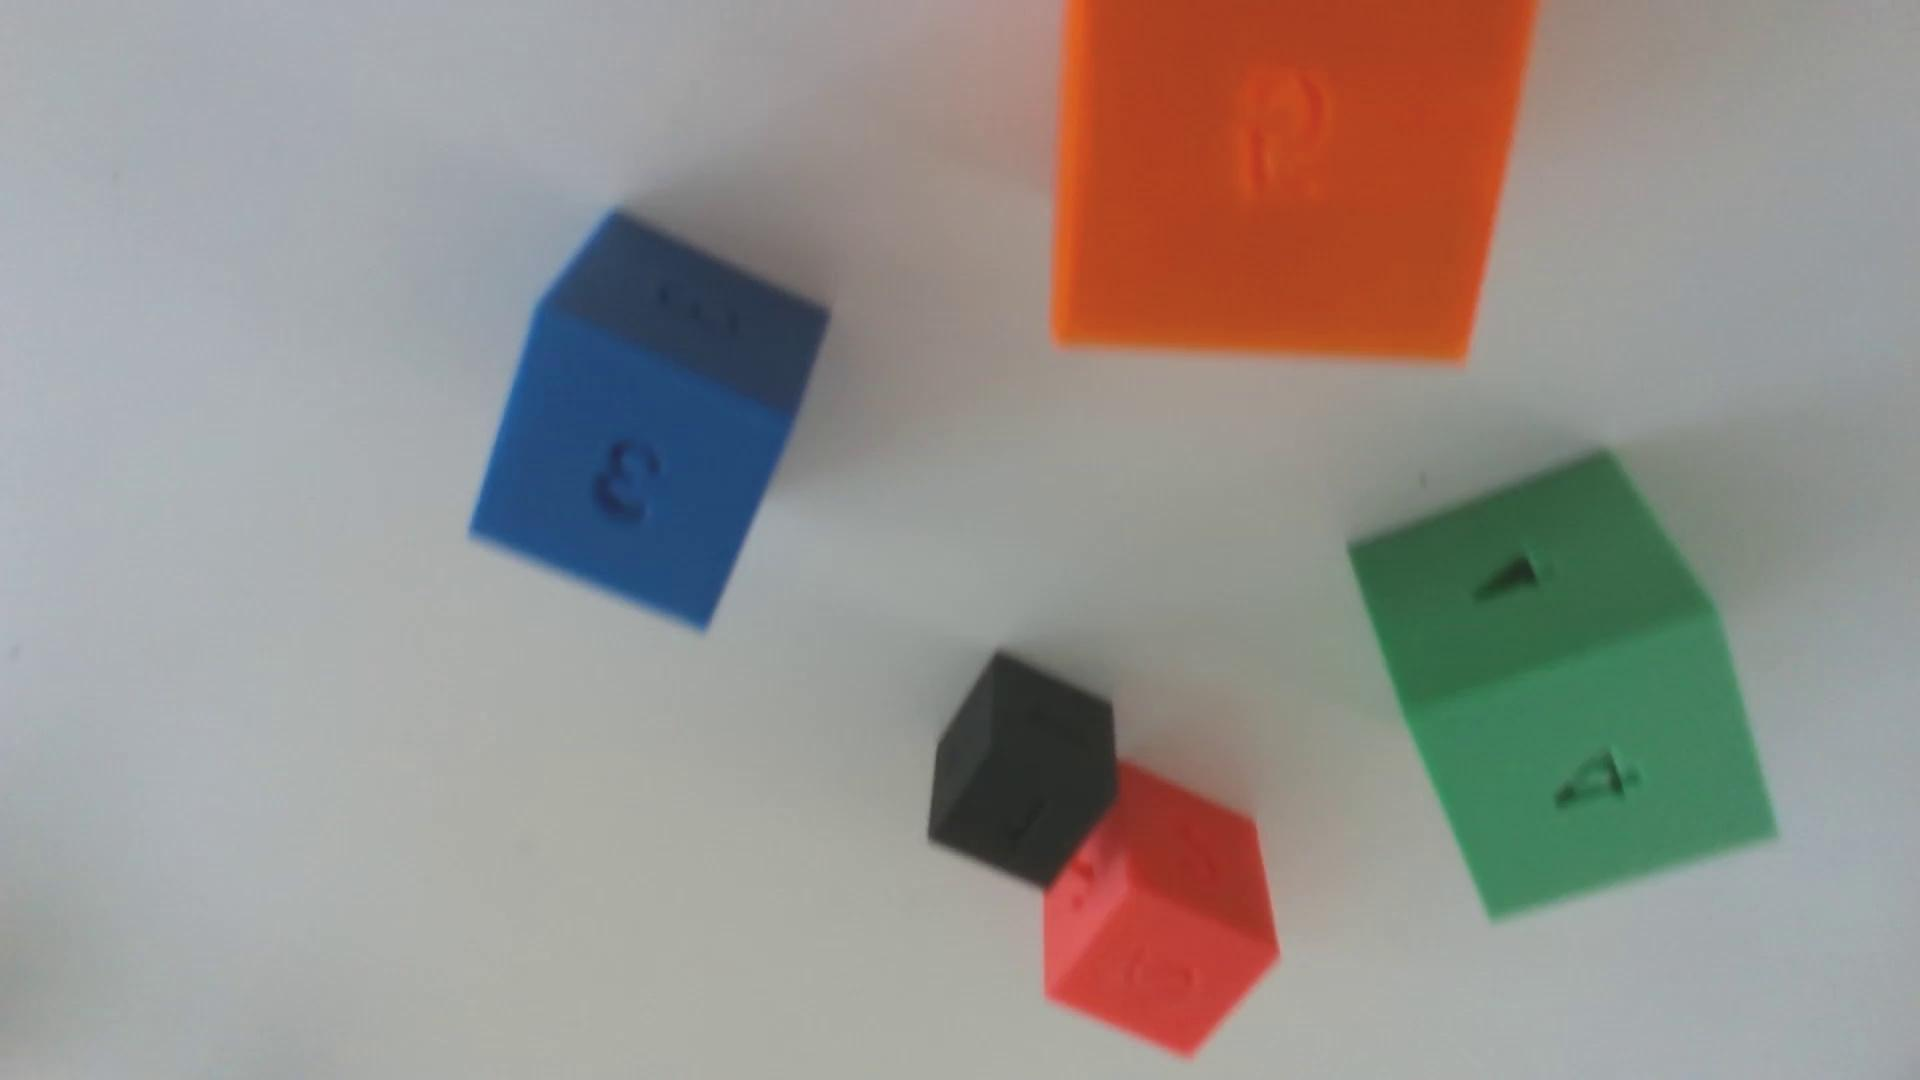black: (927, 651, 1117, 887)
blue: (469, 212, 828, 629)
green: (1348, 452, 1775, 919)
orange: (1051, 0, 1538, 363)
red: (1042, 761, 1279, 1056)
